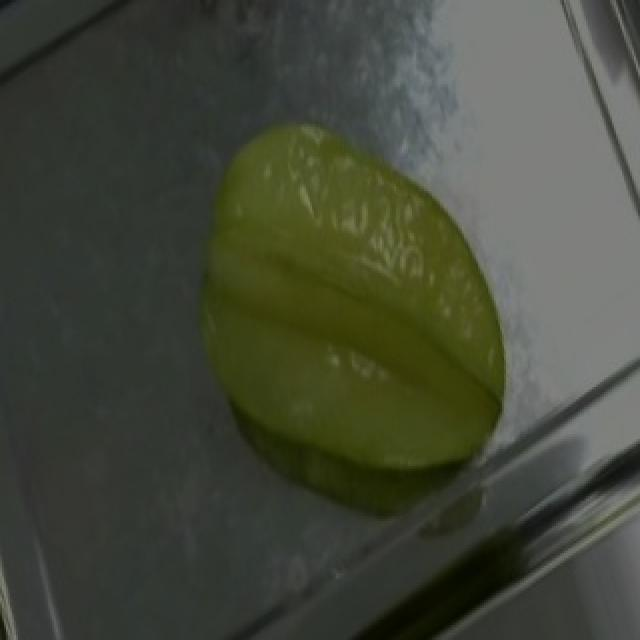fruit: (162, 82, 564, 489)
